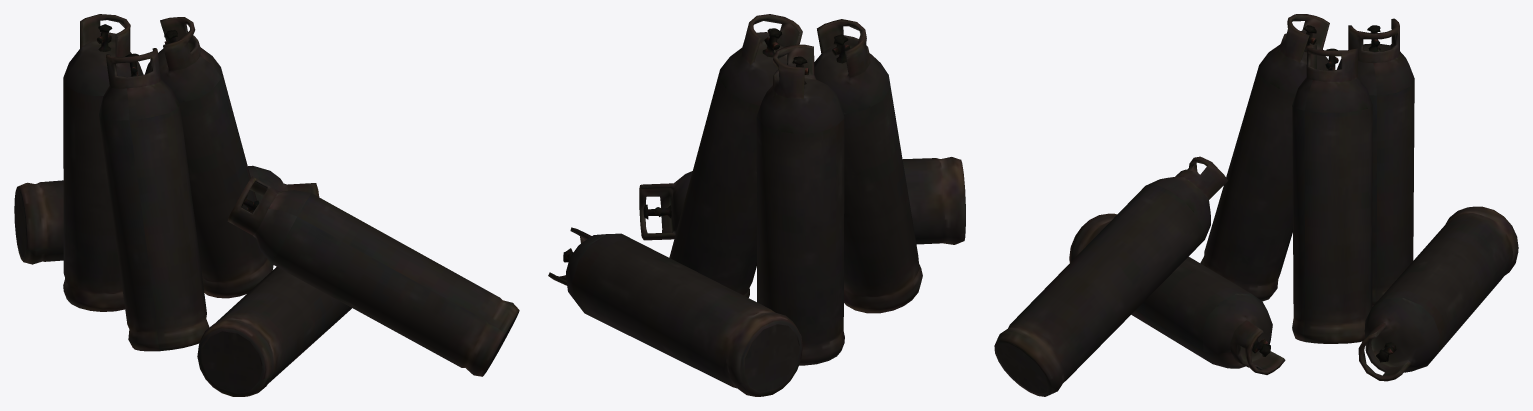
File: gas_canister_pile_a_steel.glb
3 views of the same model, side by side, from view 1: azimuth 30°, elevation 25°; view 2: azimuth 150°, elevation 25°; view 3: azimuth 270°, elevation 25° (orthographic). The views are drawn at different scales.
Parts seen in each view (by area): view 1: gas_canister_pile_a_steel; view 2: gas_canister_pile_a_steel; view 3: gas_canister_pile_a_steel.
Boxes of the visible parts, <box> form: gas_canister_pile_a_steel: <box>14,14,519,396</box>; gas_canister_pile_a_steel: <box>548,14,965,396</box>; gas_canister_pile_a_steel: <box>994,14,1518,396</box>.
Bounding box in the file's own units: 1.27 × 1.2 × 2.07.
1 material, 1 textured.
